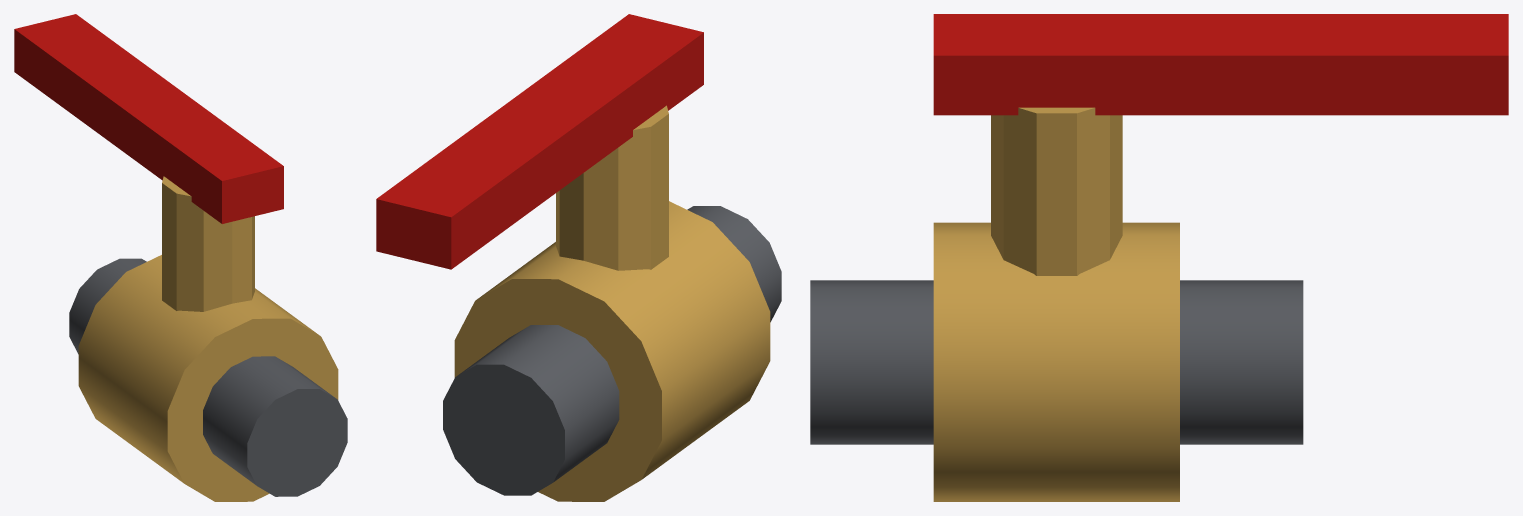
The model's file is services.pipe.valve_110.glb.
3 renders of one model, left to right at view 1: azimuth 30°, elevation 25°; view 2: azimuth 150°, elevation 25°; view 3: azimuth 270°, elevation 25°, orthographic. The views are drawn at different scales.
Visible parts, largest first — view 1: main__brass, main__plastic_red, main__plastic_grey; view 2: main__brass, main__plastic_red, main__plastic_grey; view 3: main__brass, main__plastic_red, main__plastic_grey.
Boxes of the visible parts, x1,y1,x2,y2 form: main__brass: (78, 176, 338, 501); main__plastic_red: (14, 14, 283, 223); main__plastic_grey: (69, 258, 347, 496); main__brass: (454, 105, 770, 501); main__plastic_red: (376, 14, 703, 269); main__plastic_grey: (443, 206, 781, 495); main__brass: (933, 107, 1179, 501); main__plastic_red: (933, 14, 1508, 115); main__plastic_grey: (810, 280, 1303, 444).
Size of the model in its own units: 0.1823 by 0.3355 by 0.4675.
